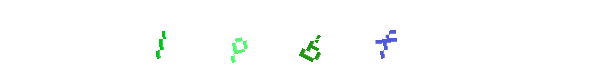B: (255, 0, 335, 80)
F: (346, 0, 426, 80)
L: (197, 0, 277, 80)
P: (224, 0, 304, 80)
